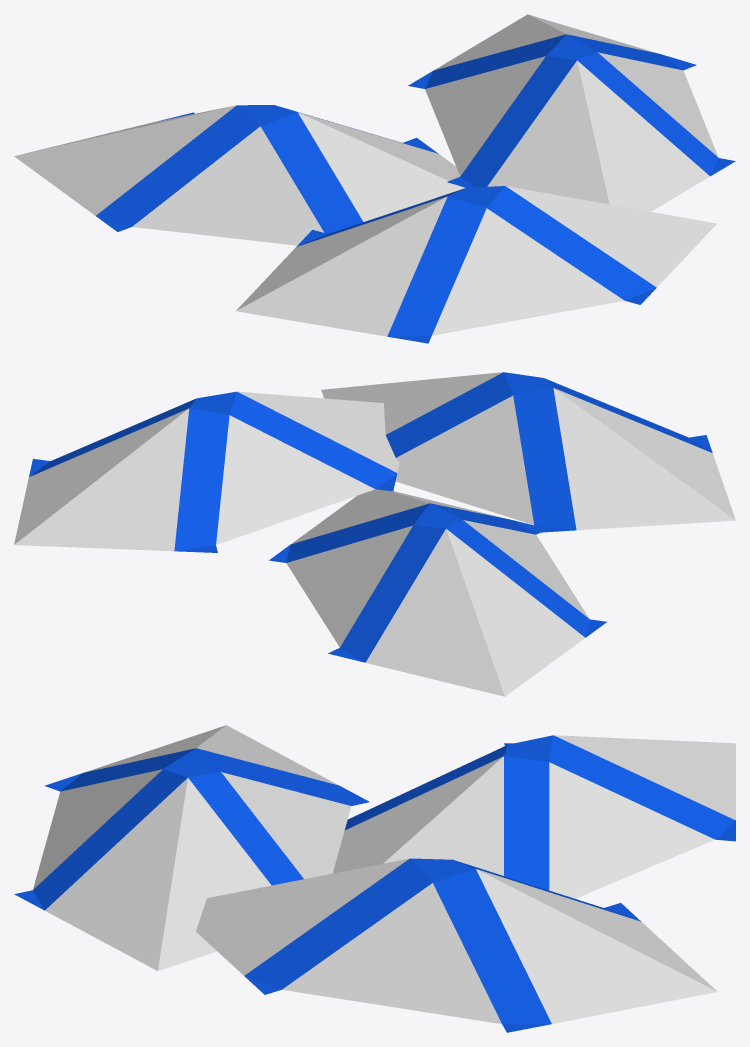
The model's file is Terrain_Gold_3.fbx.
The picture shows the model from 3 angles, top to bottom: view 1: azimuth 30°, elevation 25°; view 2: azimuth 150°, elevation 25°; view 3: azimuth 270°, elevation 25°; orthographic projection. The views are drawn at different scales.
Parts seen in each view (by area): view 1: Terrain_Gold_3; view 2: Terrain_Gold_3; view 3: Terrain_Gold_3.
Part boxes in pixels (<box>): Terrain_Gold_3: <box>14,14,735,343</box>; Terrain_Gold_3: <box>14,372,735,696</box>; Terrain_Gold_3: <box>14,725,735,1032</box>.
Bounding box in the file's own units: 47.51 × 7.79 × 45.26.
